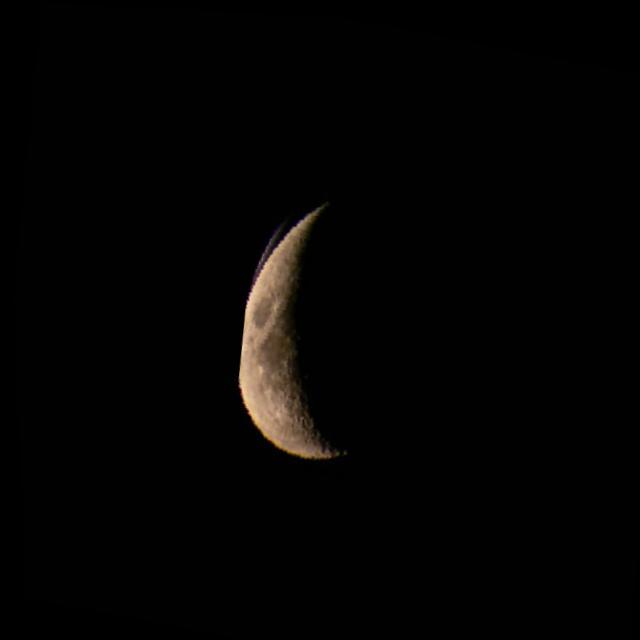moon: (215, 165, 484, 505)
